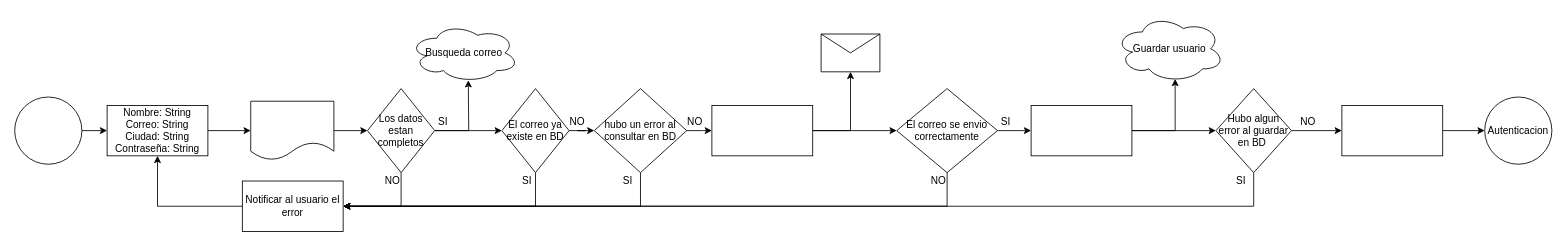
Some shapes in this 1567 by 246 pixel diagram are drawn without their labels. The box of each missing label's shape, as (x1, y1, x2, y2) in pixels:
API login POST: (250, 100, 334, 160)
Enviar correo de confirmación al usuario: (711, 105, 813, 156)
Guardar datos en la BD: (1030, 105, 1132, 156)
Notificar al usuario el registro exitoso: (1341, 105, 1443, 156)
Registro: (14, 96, 82, 164)
